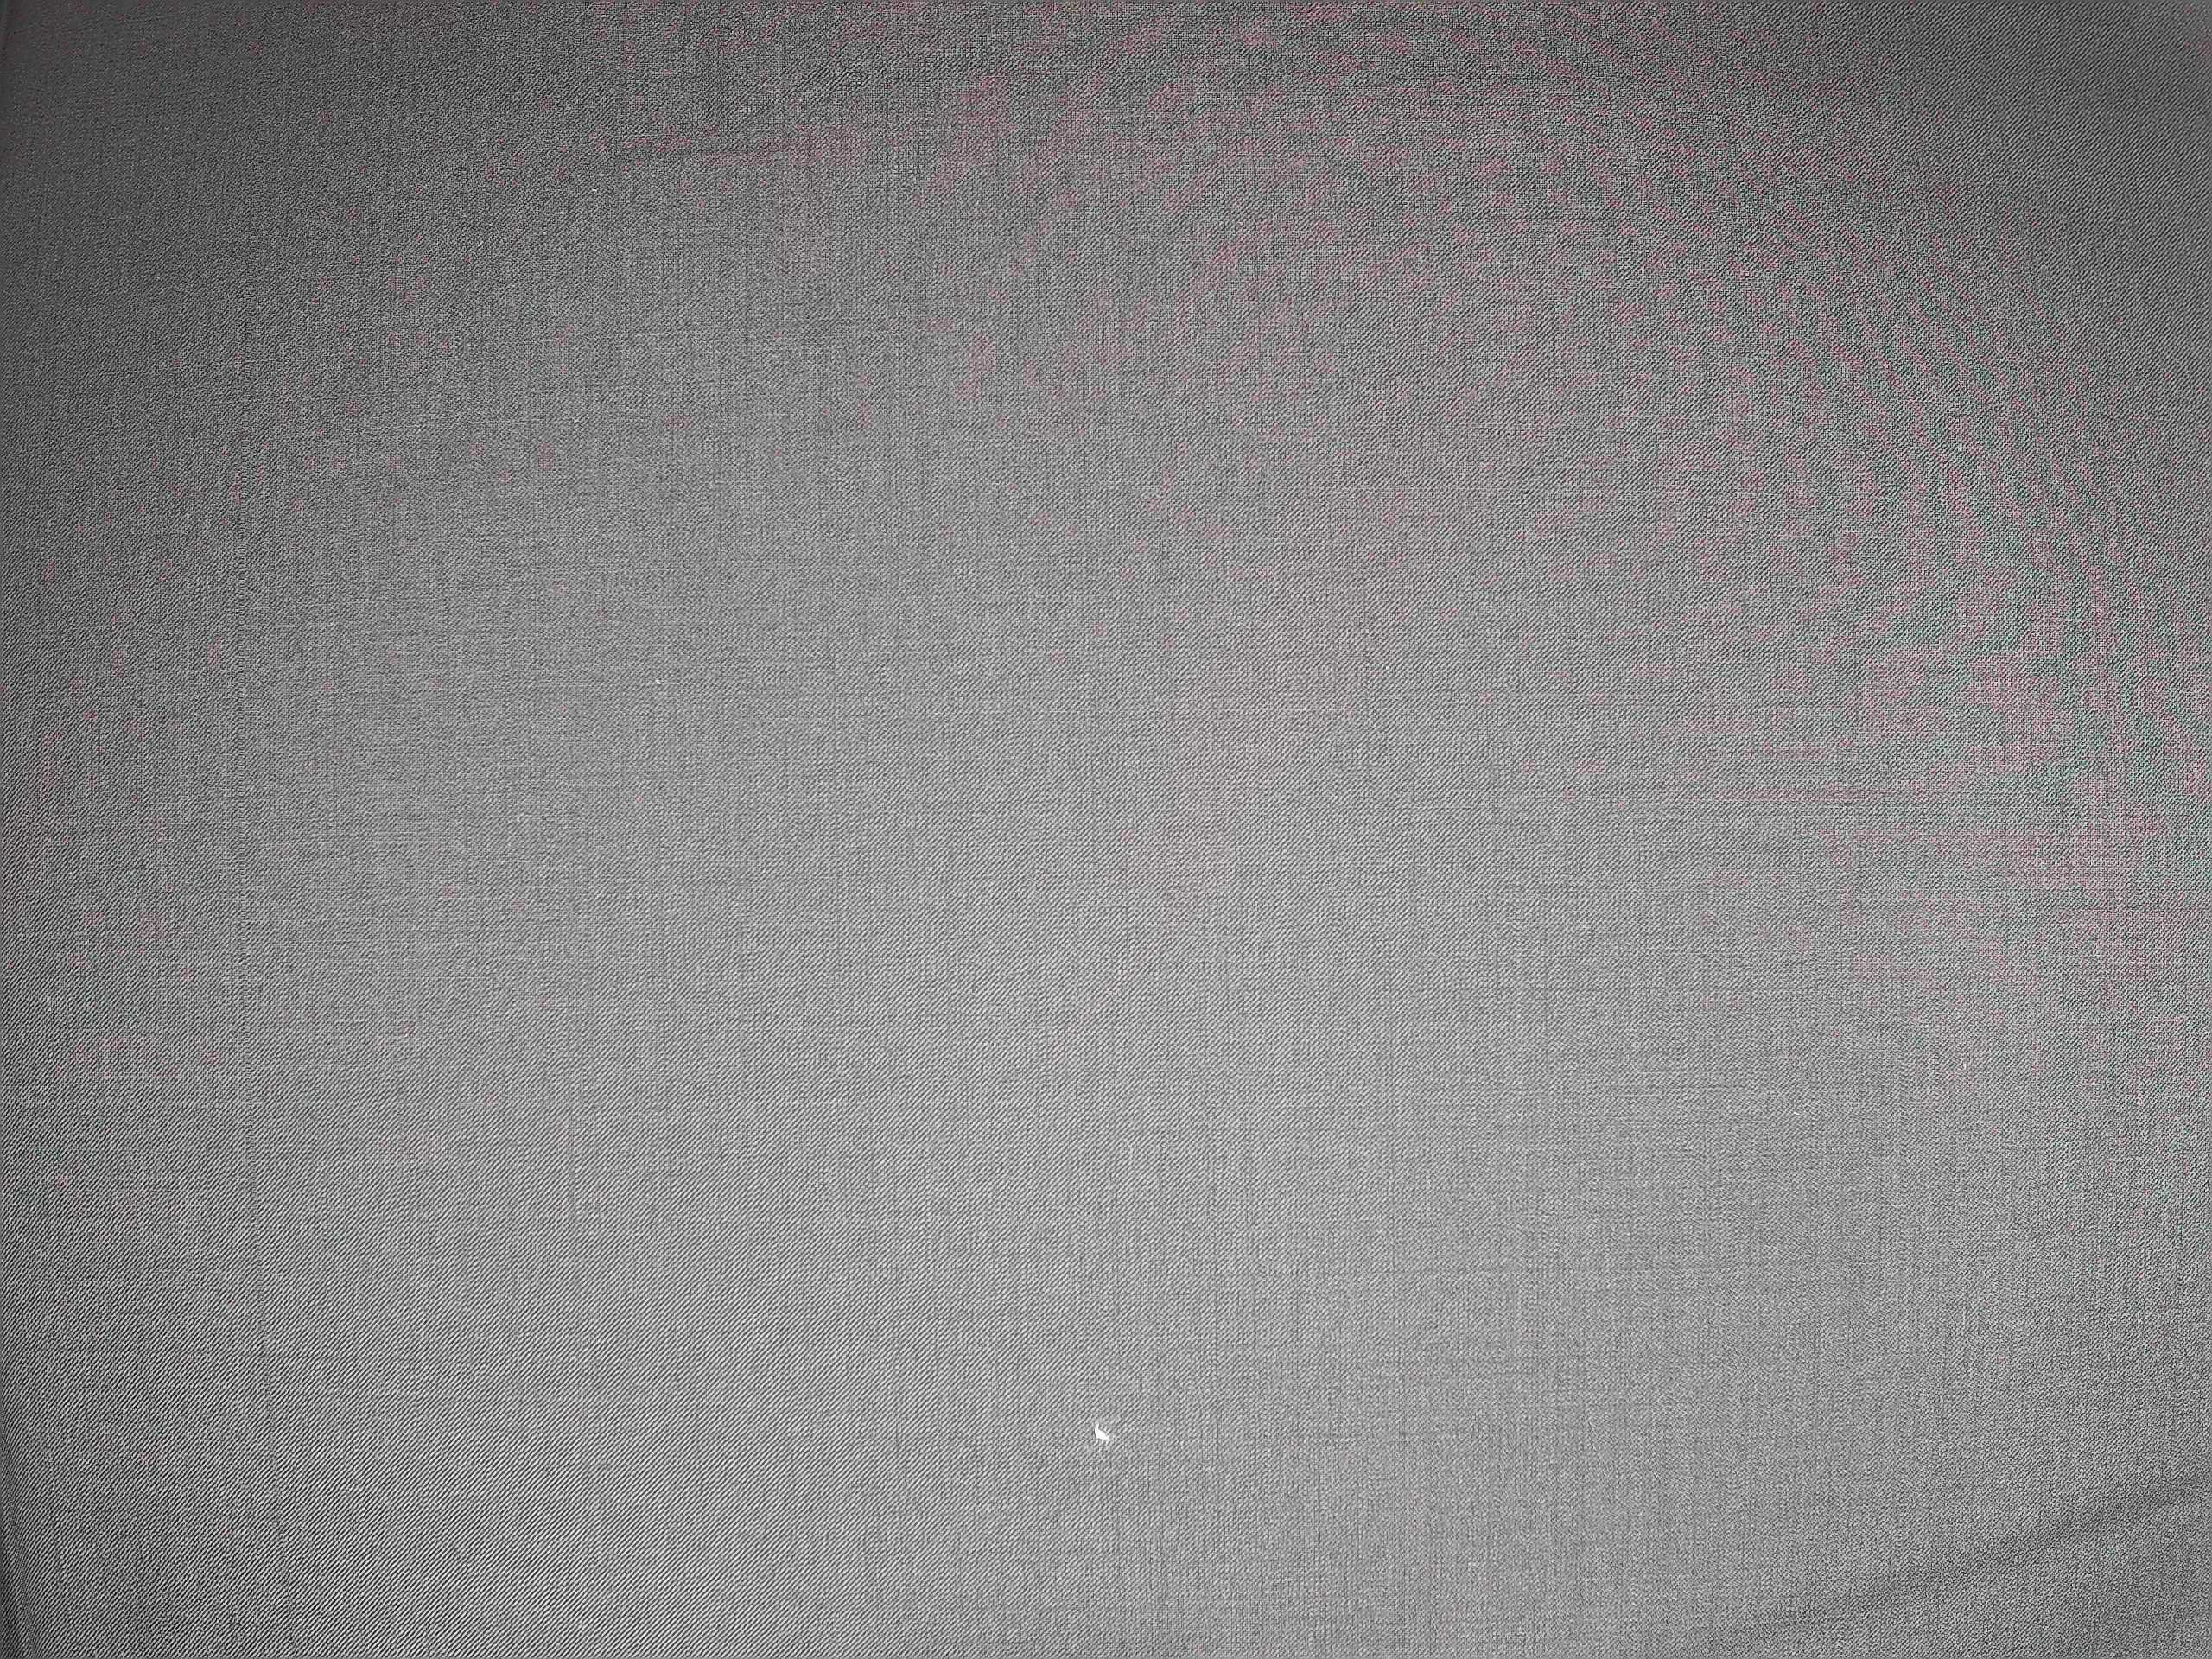lacking-warp: (218, 31, 308, 1622)
